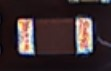COMP: (13, 12, 97, 60)
STAN: (95, 32, 111, 48)
